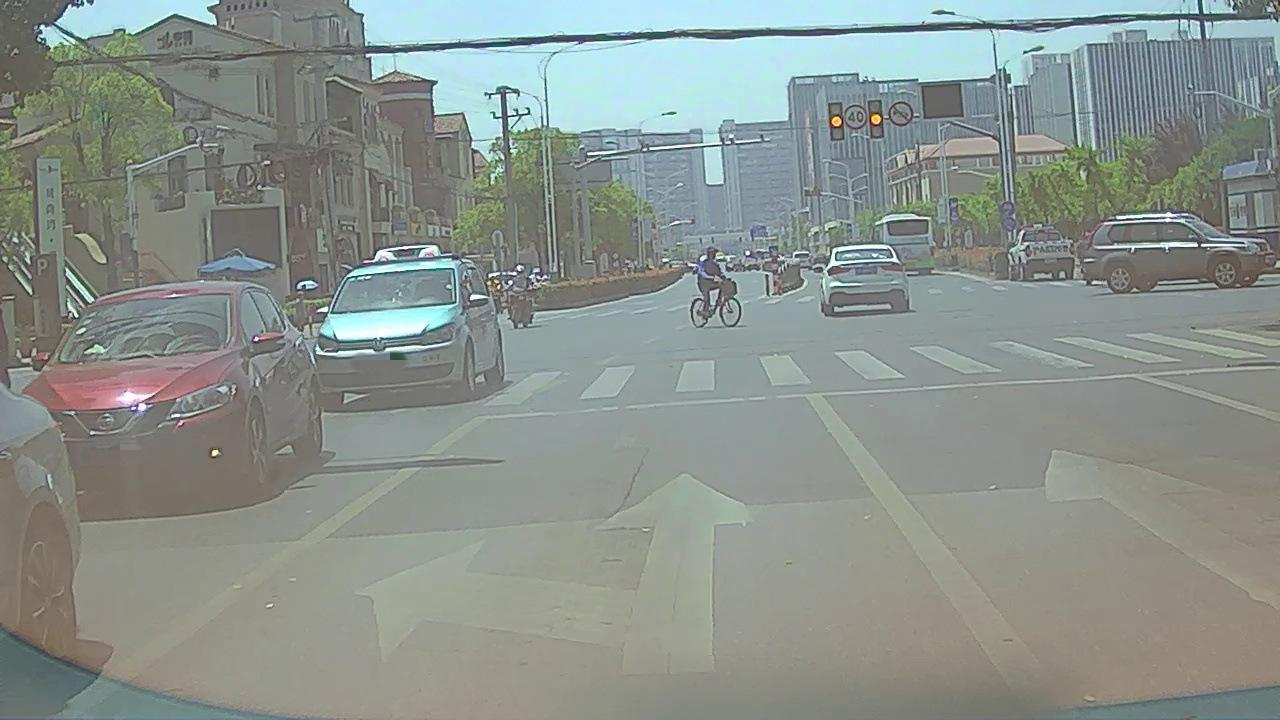traffic_light: (869, 100, 885, 138), (829, 103, 844, 139)
